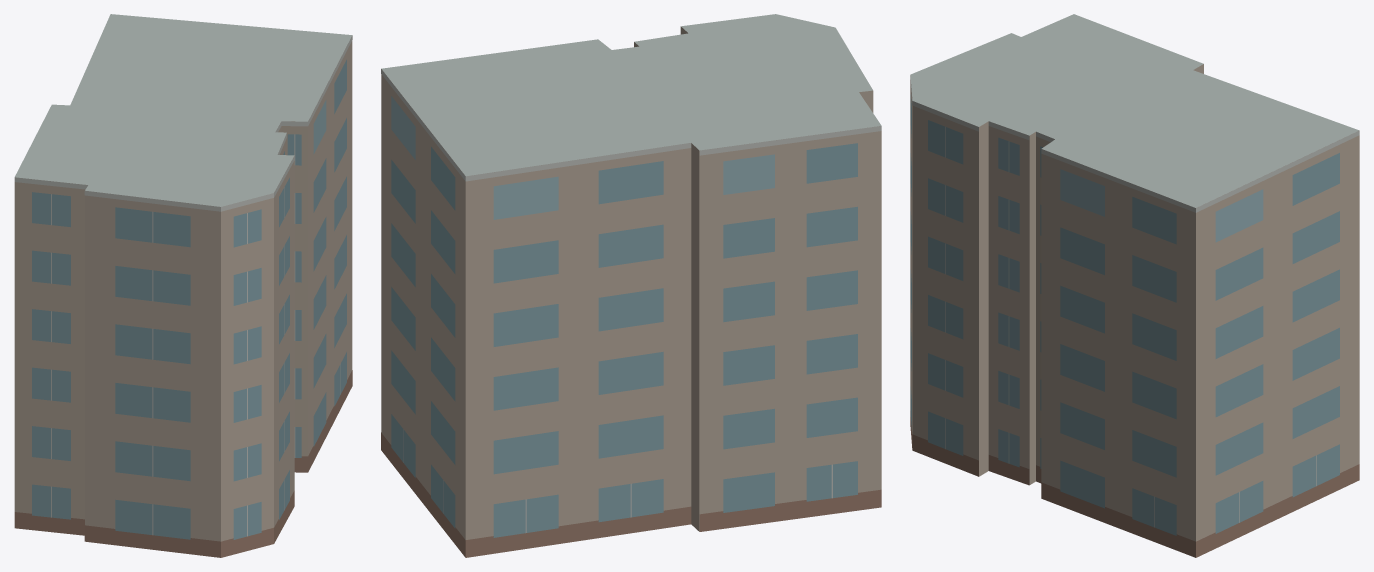
Rendered from survey-upis-32983261.glb.
3 views of the same model, side by side, from view 1: azimuth 30°, elevation 25°; view 2: azimuth 150°, elevation 25°; view 3: azimuth 270°, elevation 25° (orthographic). The views are drawn at different scales.
Parts seen in each view (by area): view 1: survey-upis-32983261.tmp; view 2: survey-upis-32983261.tmp; view 3: survey-upis-32983261.tmp.
Boxes of the visible parts, x1,y1,x2,y2 form: survey-upis-32983261.tmp: (14, 14, 352, 557); survey-upis-32983261.tmp: (381, 14, 881, 557); survey-upis-32983261.tmp: (910, 14, 1359, 557).
Bounding box in the file's own units: 21.43 × 18 × 20.96.
